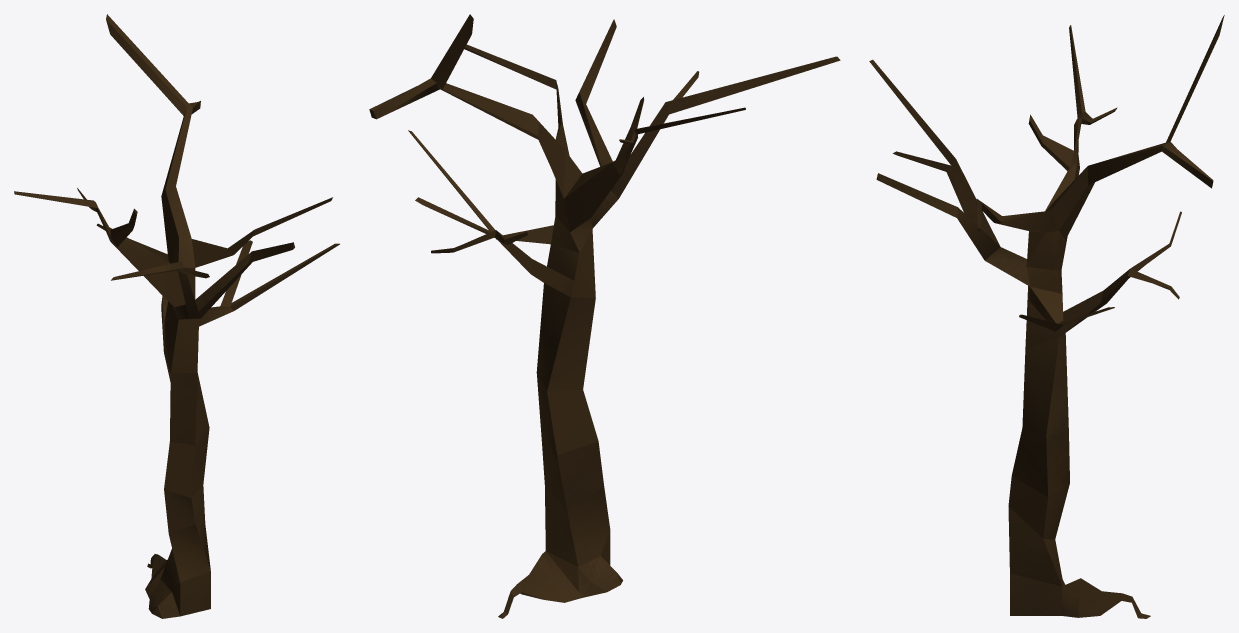
Rendered from Tree3.fbx.
The picture shows the model from 3 angles, left to right: view 1: azimuth 30°, elevation 25°; view 2: azimuth 150°, elevation 25°; view 3: azimuth 270°, elevation 25°; orthographic projection. The views are drawn at different scales.
Visible parts, largest first — view 1: pCube1; view 2: pCube1; view 3: pCube1.
Boxes of the visible parts, x1,y1,x2,y2 form: pCube1: (14, 14, 339, 618); pCube1: (369, 14, 840, 618); pCube1: (869, 15, 1224, 618).
Size of the model in its own units: 3.2 by 5.34 by 2.87.
